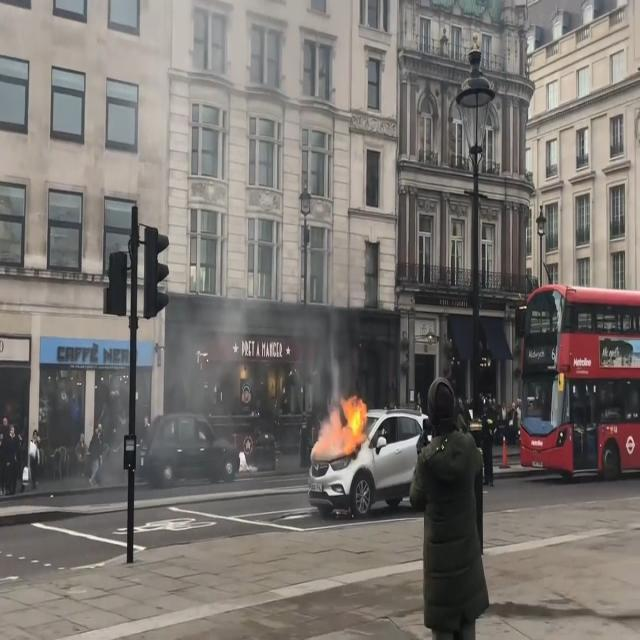fire: (306, 388, 372, 461)
